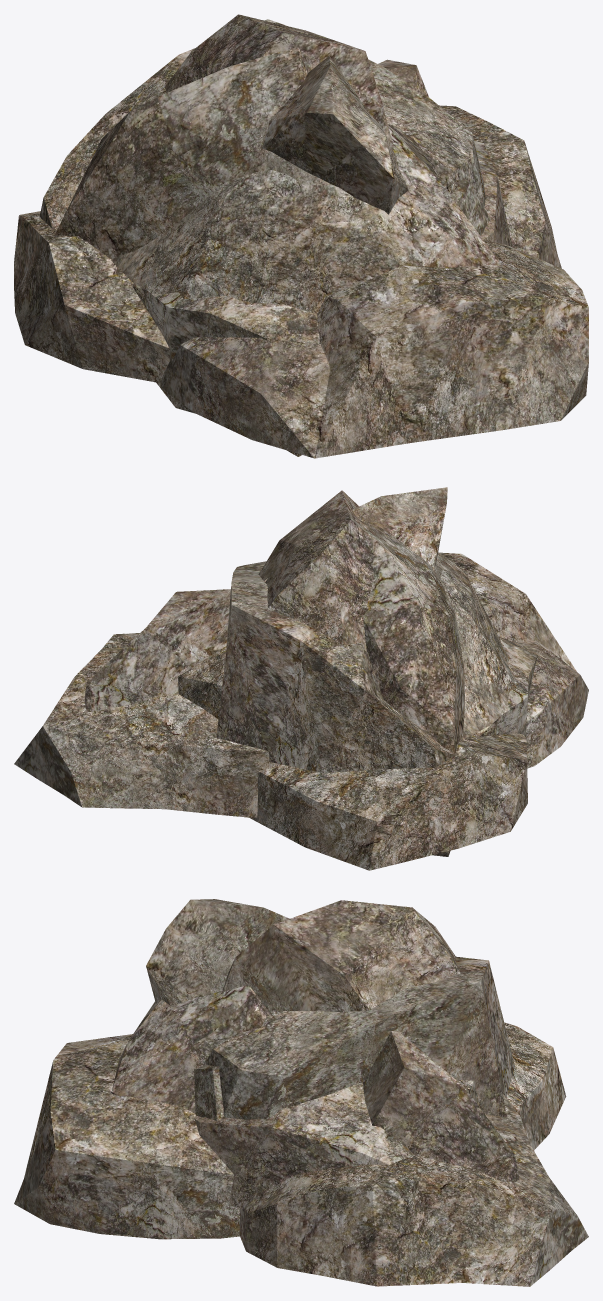
The model's file is rock-1.gltf.
3 views of the same model, one above another, from view 1: azimuth 30°, elevation 25°; view 2: azimuth 150°, elevation 25°; view 3: azimuth 270°, elevation 25° (orthographic). The views are drawn at different scales.
Visible parts, largest first — view 1: LP_B-Rocks_05.001; view 2: LP_B-Rocks_05.001; view 3: LP_B-Rocks_05.001.
Part boxes in pixels (x1=…): LP_B-Rocks_05.001: x1=14, y1=14, x2=588, y2=458; LP_B-Rocks_05.001: x1=14, y1=487, x2=588, y2=870; LP_B-Rocks_05.001: x1=14, y1=899, x2=588, y2=1286.
Size of the model in its own units: 7.25 by 4.18 by 7.7.
Materials: 1 (1 with a texture image).
